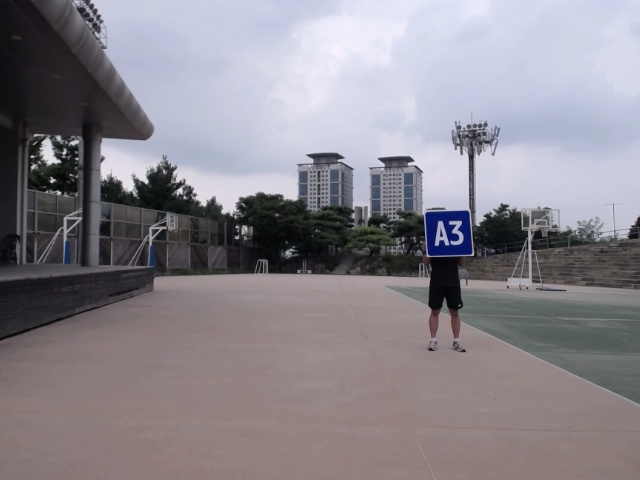delivery_a3: (424, 210, 475, 256)
